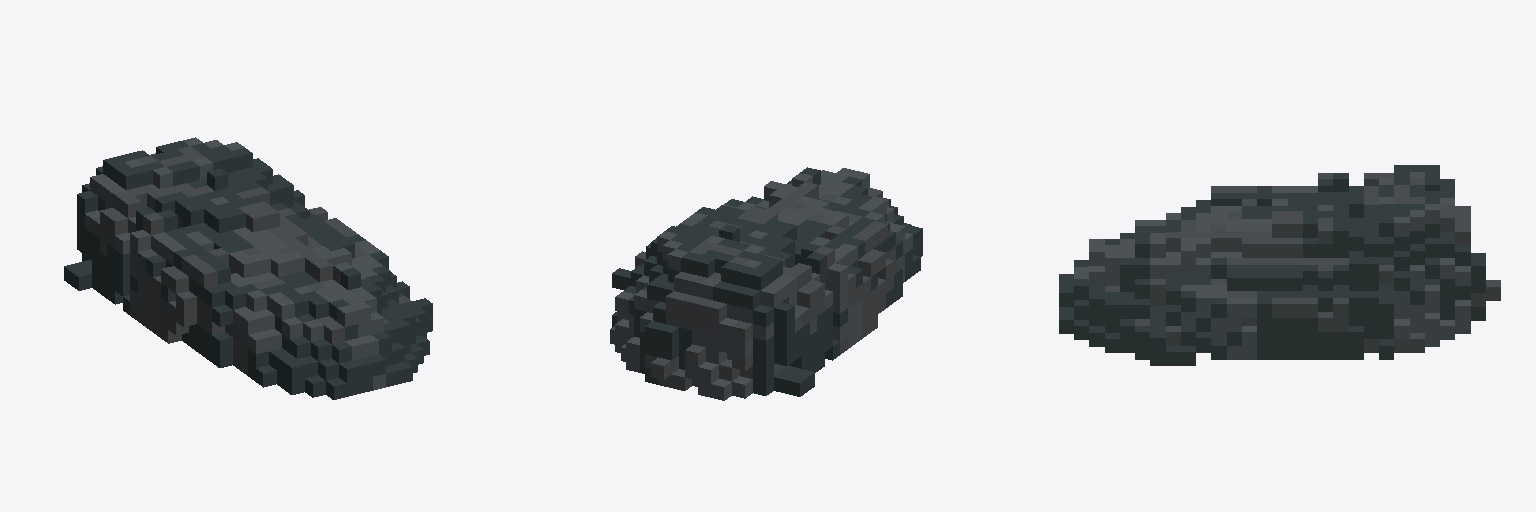
3 renders of one model, left to right at view 1: azimuth 30°, elevation 25°; view 2: azimuth 150°, elevation 25°; view 3: azimuth 270°, elevation 25°, orthographic.
Parts seen in each view (by area): view 1: object 1; view 2: object 1; view 3: object 1.
Part boxes in pixels (x1,y1,x2,y2): object 1: (64, 137, 432, 399); object 1: (610, 167, 922, 400); object 1: (1059, 165, 1500, 365).
Size of the model in its own units: 1.7 by 0.8 by 2.9.
Materials: 1 (1 with a texture image).